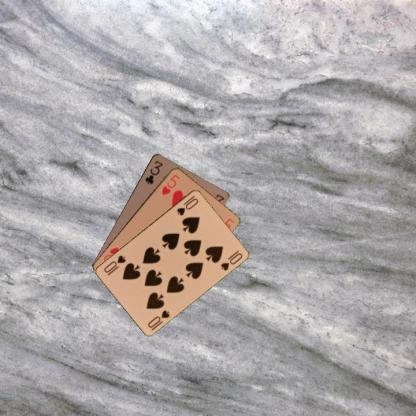10s: (174, 192, 199, 217), (145, 307, 171, 329)
3c: (142, 158, 164, 185)
5h: (158, 172, 181, 196)
